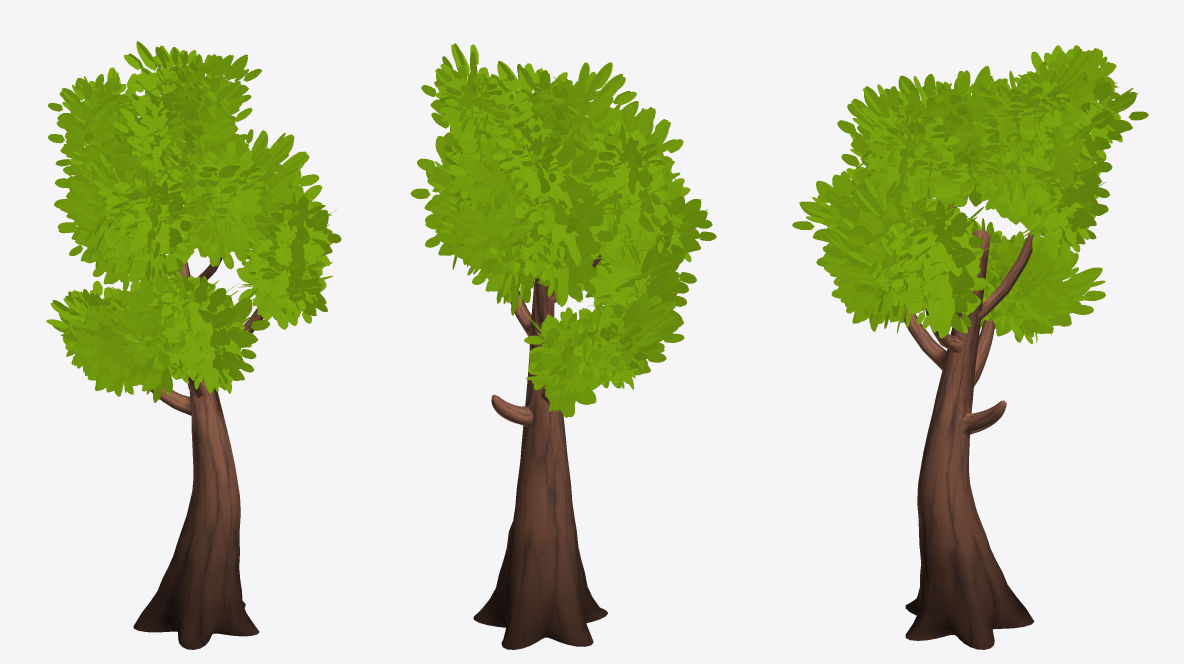
File: CommonTree_5.glb
3 renders of one model, left to right at view 1: azimuth 30°, elevation 25°; view 2: azimuth 150°, elevation 25°; view 3: azimuth 270°, elevation 25°, orthographic. The views are drawn at different scales.
Size of the model in its own units: 3.67 by 7.01 by 4.22.
2 materials, 2 textured.
